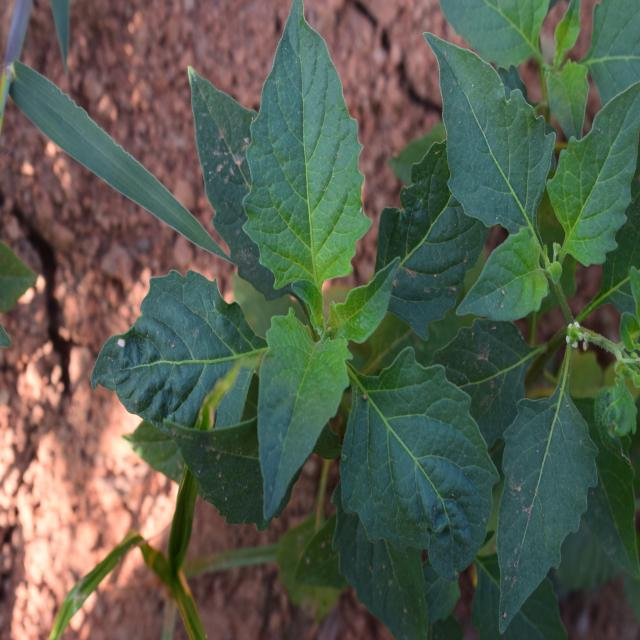Black_nightshade: (138, 35, 496, 568), (437, 38, 640, 534)
